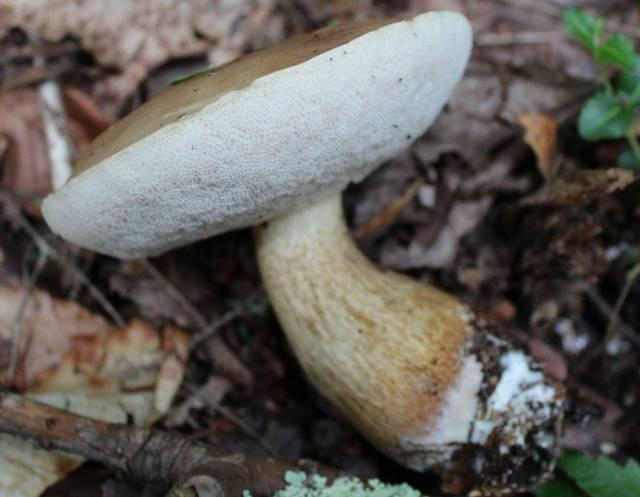poisonous_mushroom: (39, 8, 568, 496)
